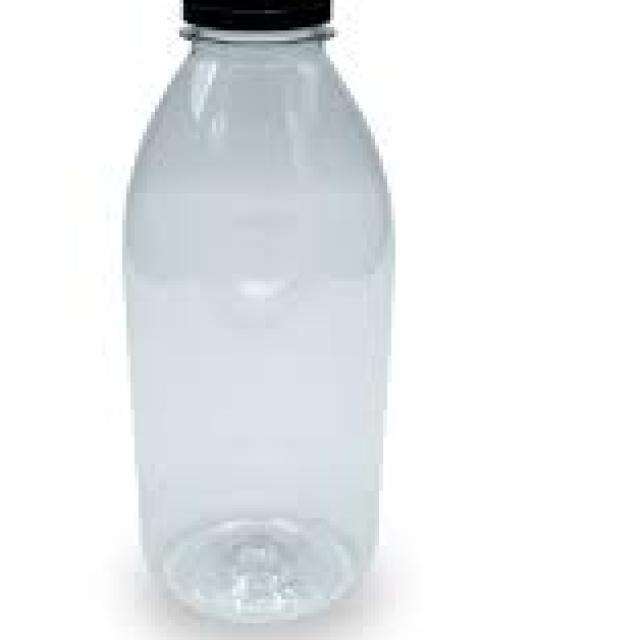organic: (117, 6, 443, 614)
